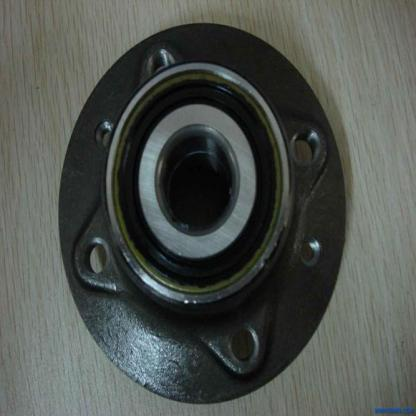FOD: (104, 57, 293, 313)
